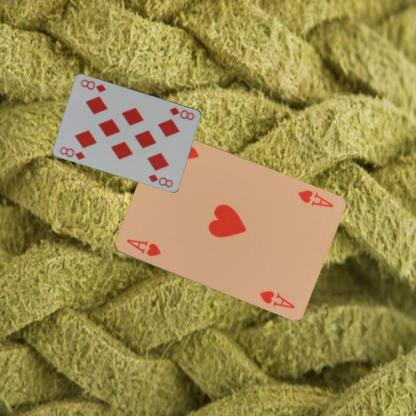8d: (167, 104, 196, 121), (57, 144, 87, 160)
Ah: (294, 187, 335, 209), (124, 236, 162, 258)
